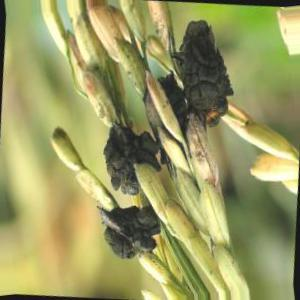False Smut: (185, 22, 234, 130), (105, 122, 152, 194), (101, 205, 160, 255)
